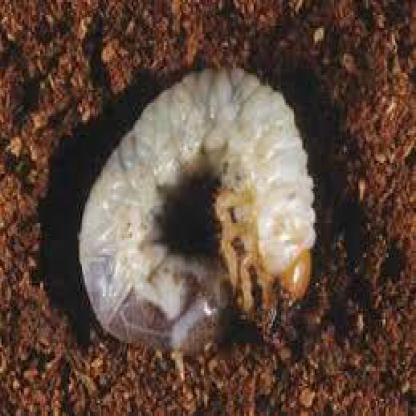root grubs: (80, 71, 317, 355)
